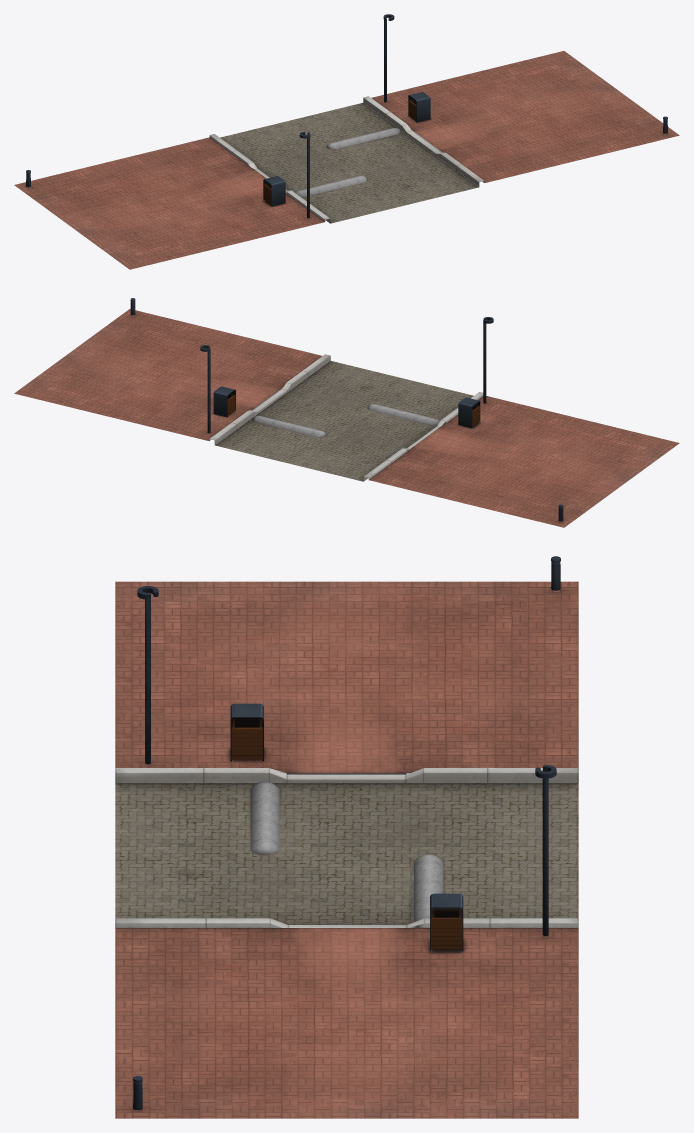
File: street_5.glb
The picture shows the model from 3 angles, top to bottom: view 1: azimuth 30°, elevation 25°; view 2: azimuth 150°, elevation 25°; view 3: azimuth 270°, elevation 25°; orthographic projection. The views are drawn at different scales.
Visible parts, largest first — view 1: street_5; view 2: street_5; view 3: street_5.
Part boxes in pixels (left/top/right/bottom): street_5: left=14, top=14, right=679, bottom=269; street_5: left=14, top=298, right=679, bottom=527; street_5: left=115, top=556, right=578, bottom=1118.
Bounding box in the file's own units: 21.95 × 3.37 × 8.
1 material, 1 textured.
